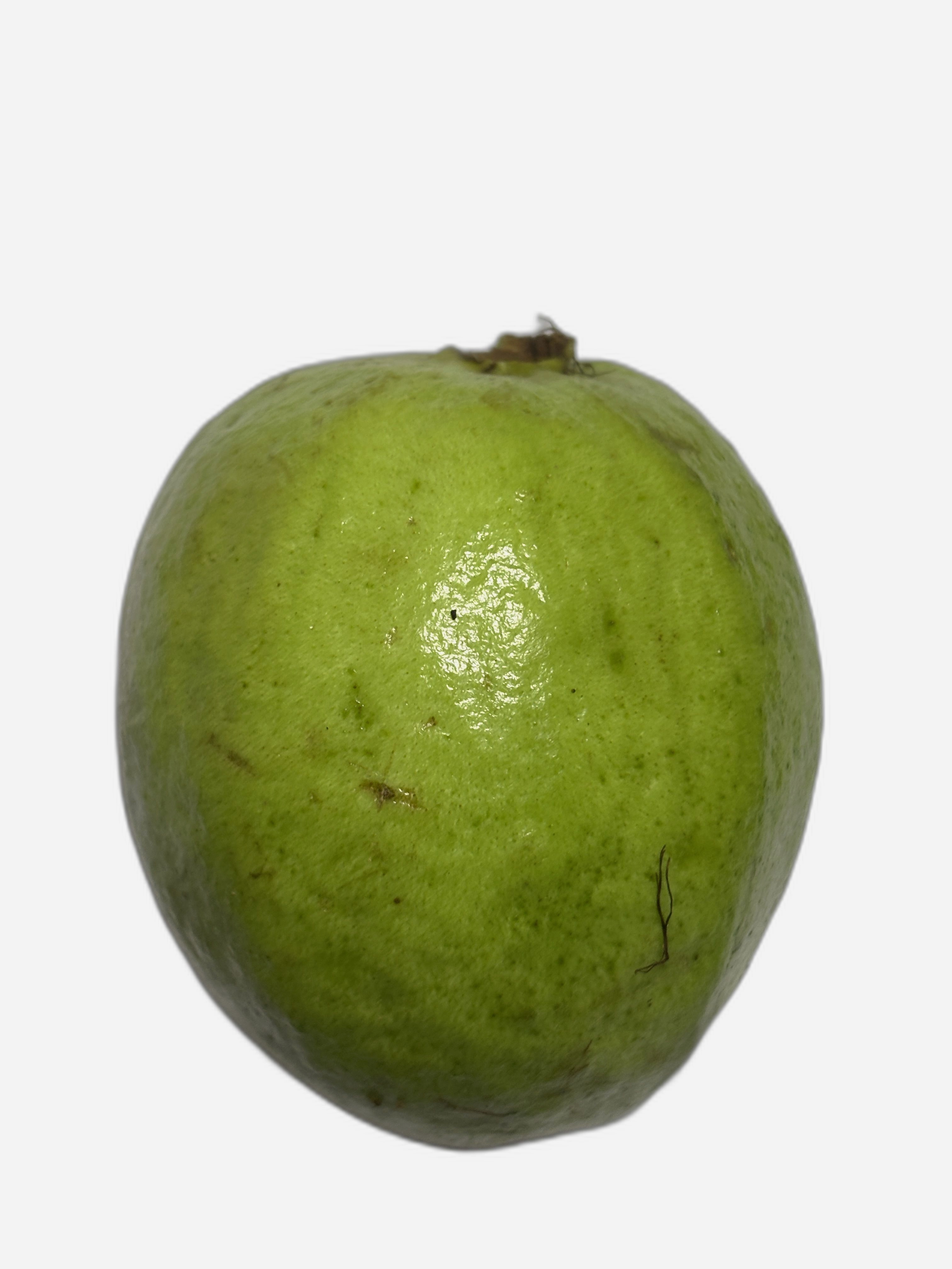guava: (250, 72, 824, 1201)
